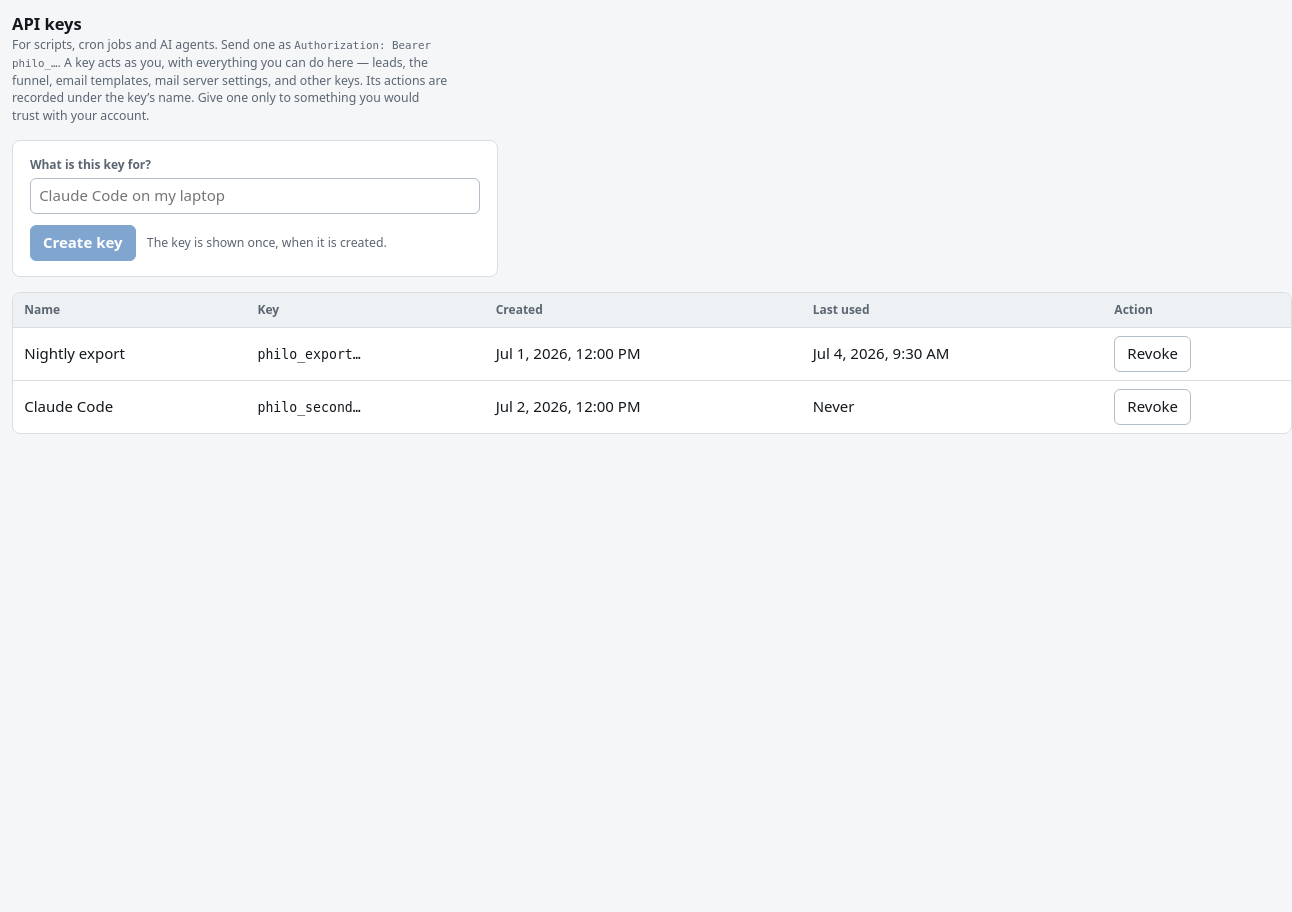
Test: ApiKeys › drops the secret from the page when it is dismissed
In the field labelled "What is this key for?": (255, 196) [30, 178, 480, 214], type "Cron job"
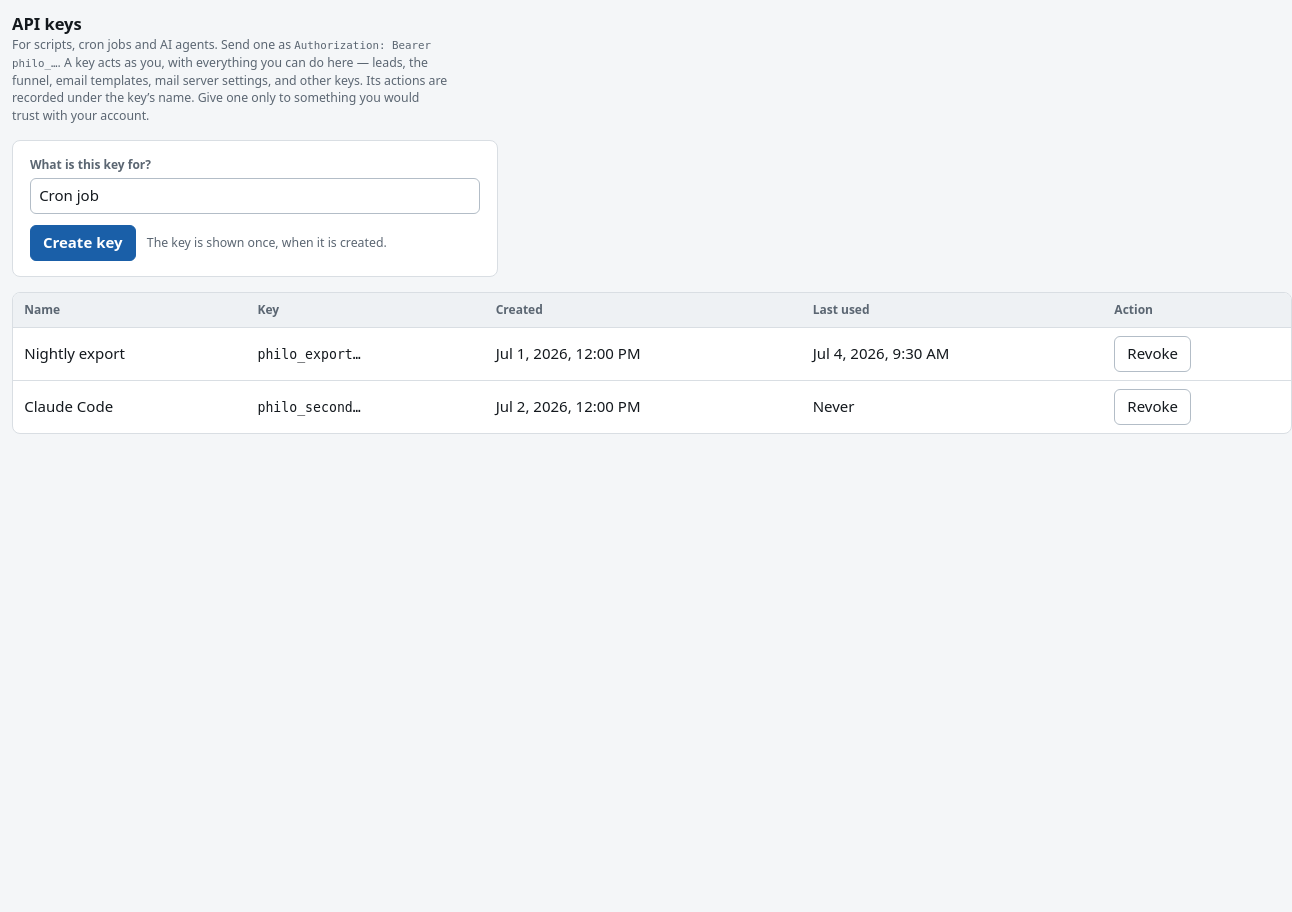
Click the button "Create key": click(83, 243) [30, 225, 136, 261]
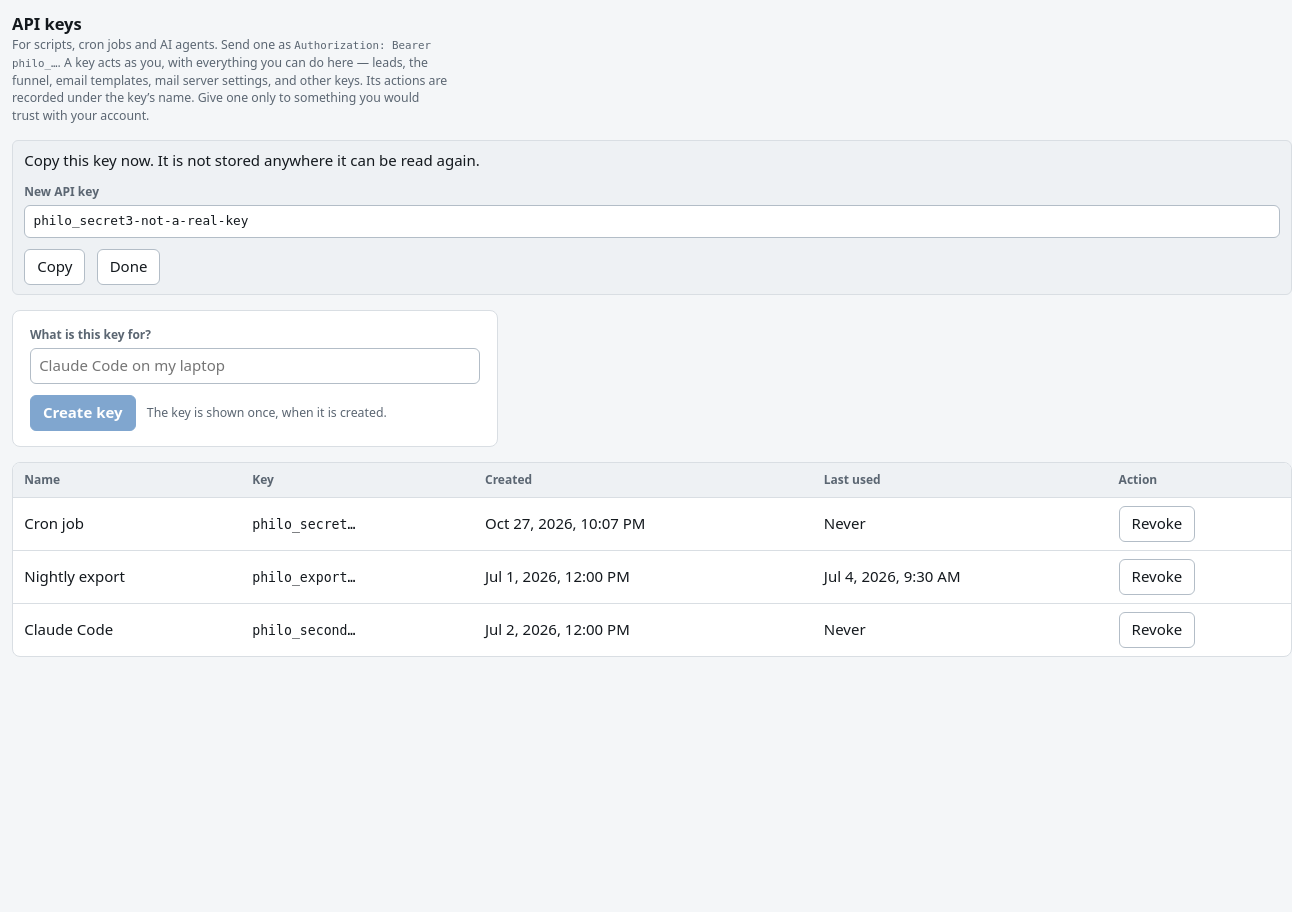
Expected: the field labelled "New API key" is shown, [24, 205, 1280, 238]
Click the button "Done": click(128, 267) [97, 249, 160, 285]
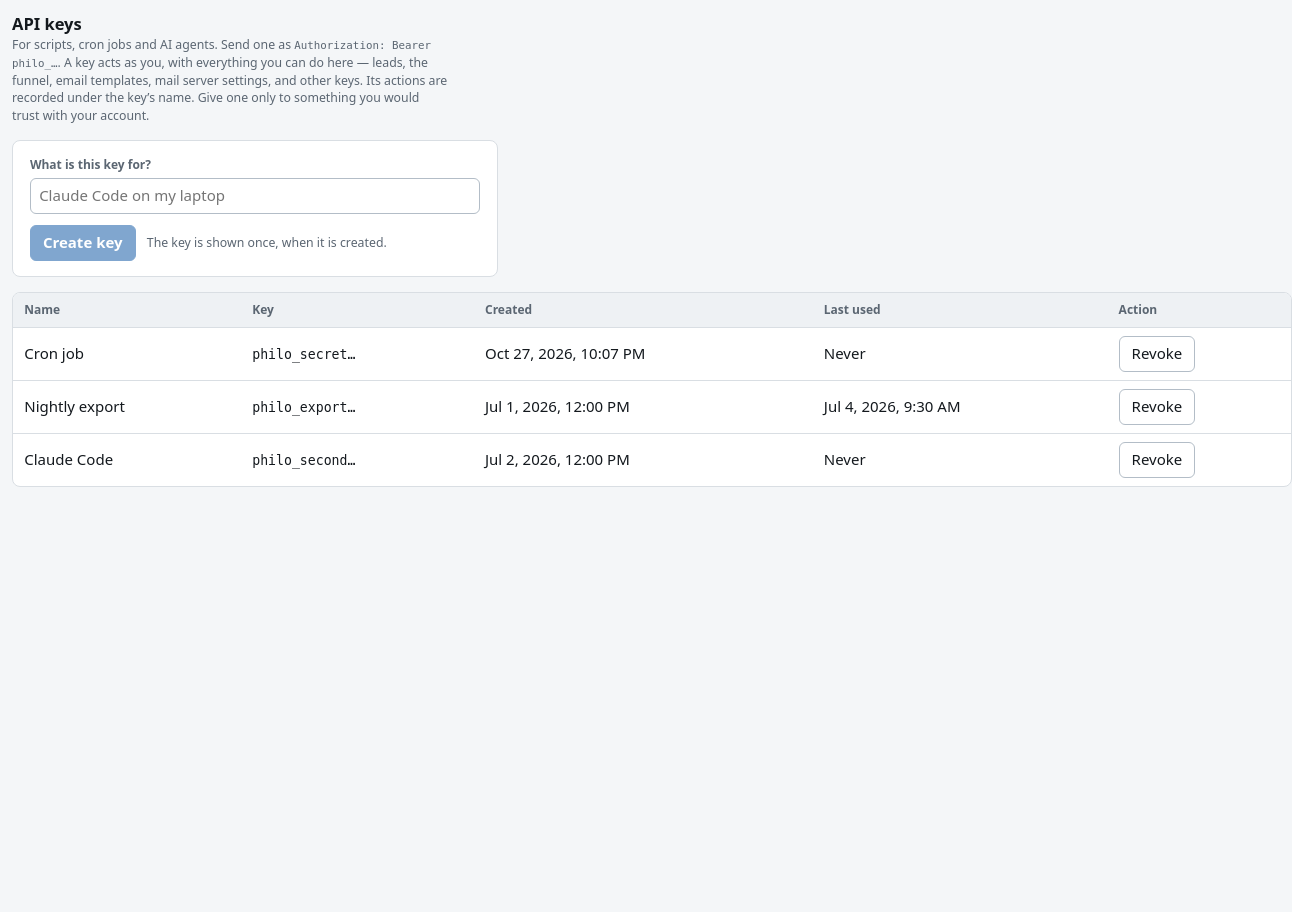
Expected: the text labelled "New API key" is gone
